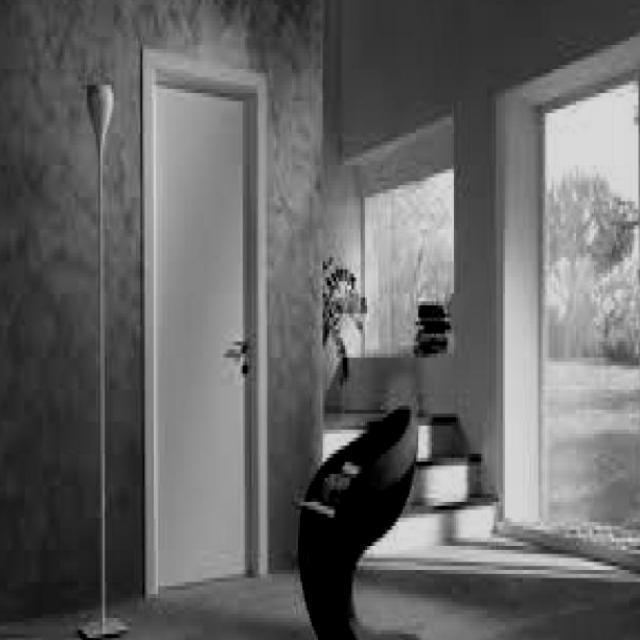door: (142, 59, 265, 593)
